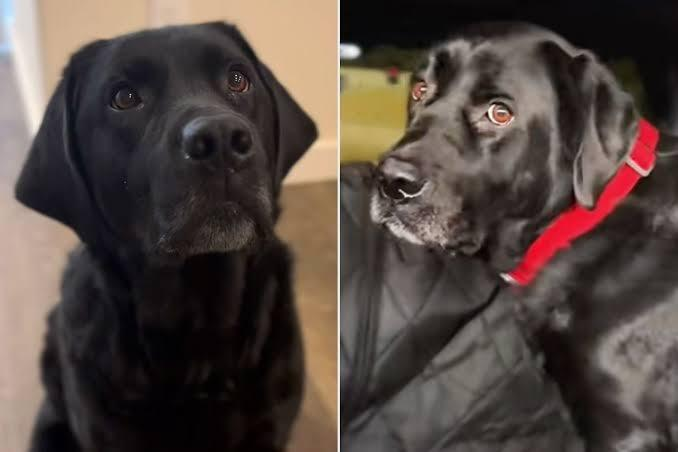adult_dog: (12, 17, 320, 452), (367, 21, 678, 451)
